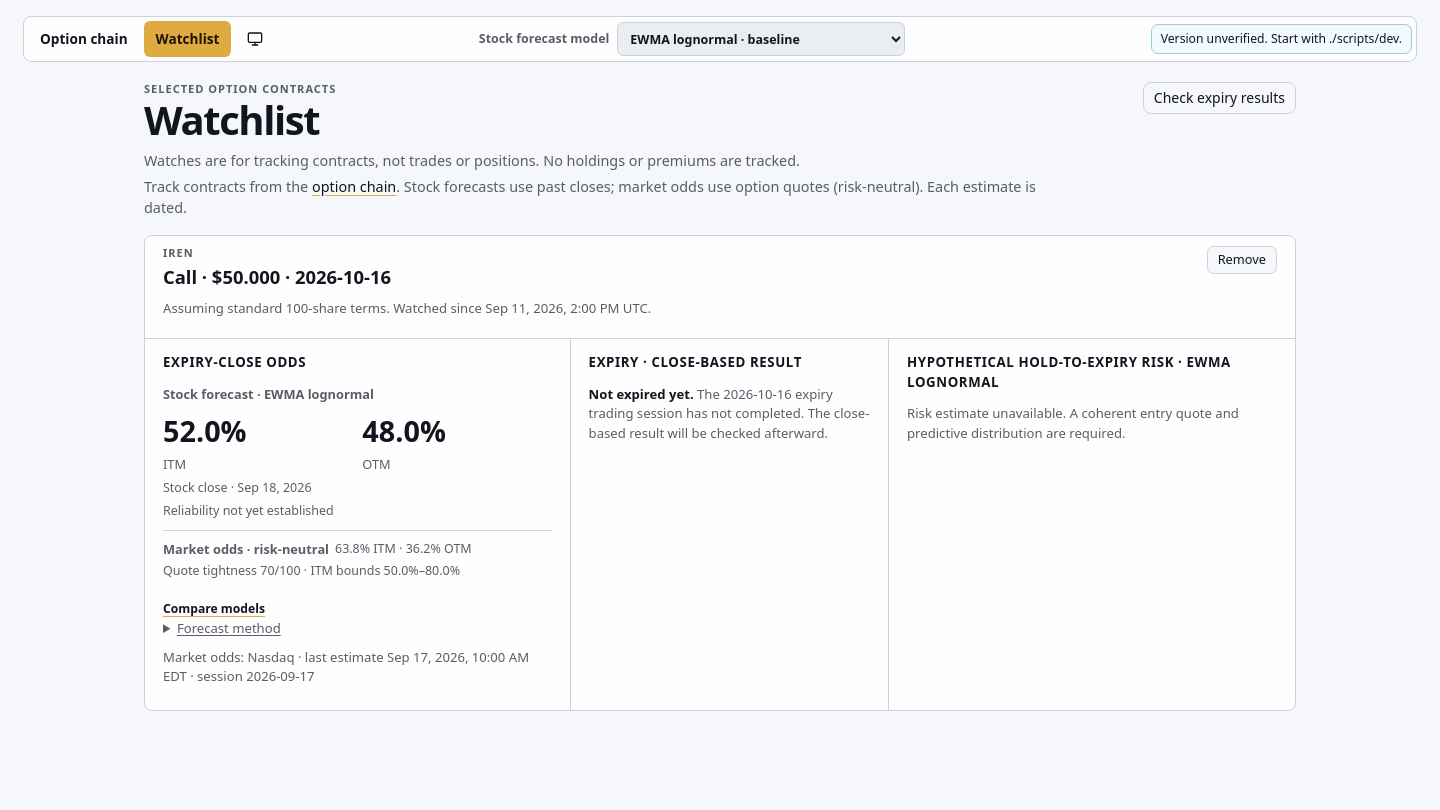
puts the real-world forecast before separate market-implied odds
This screenshot has width=1440, height=810.
Check: the element with class "odds-physical" shows "52.0% ITM", box [163,384,446,519]
Check: the element with class "odds-market" shows "63.8% ITM", box [163,530,552,580]
What coordinates should you click on to do the following:
click the heading "Forecast method"
I would click on:
 (222, 629)
Its box is [163,619,281,639].
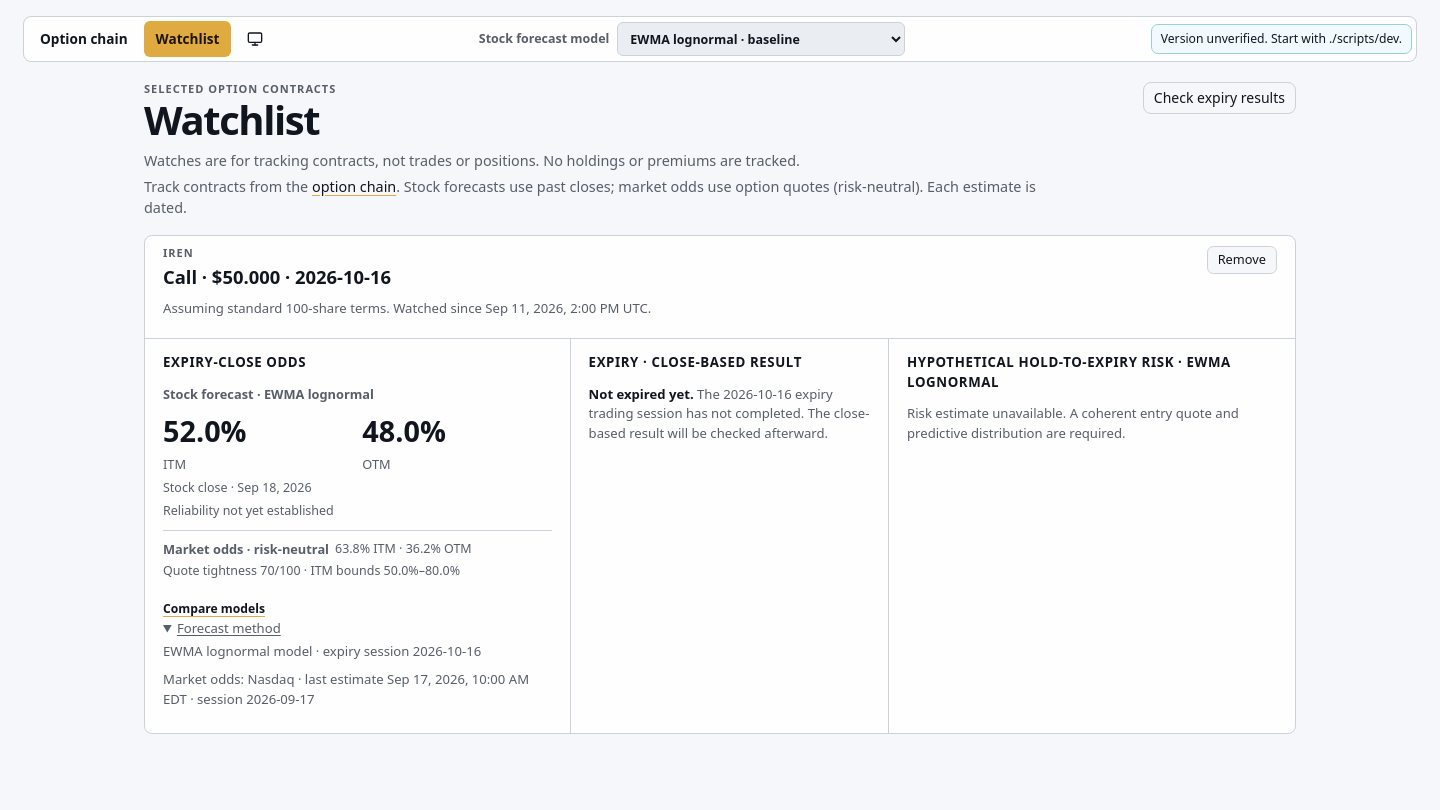
Check: the text "Forecast method" shows "EWMA lognormal model", box [163,642,481,660]
